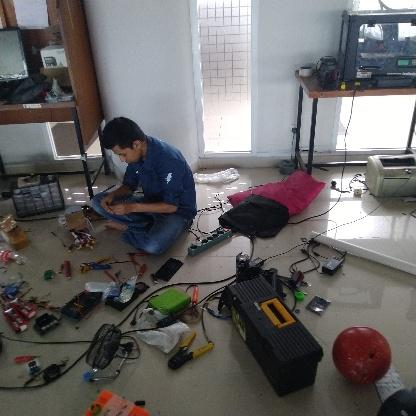red_buoy: (330, 323, 392, 391)
